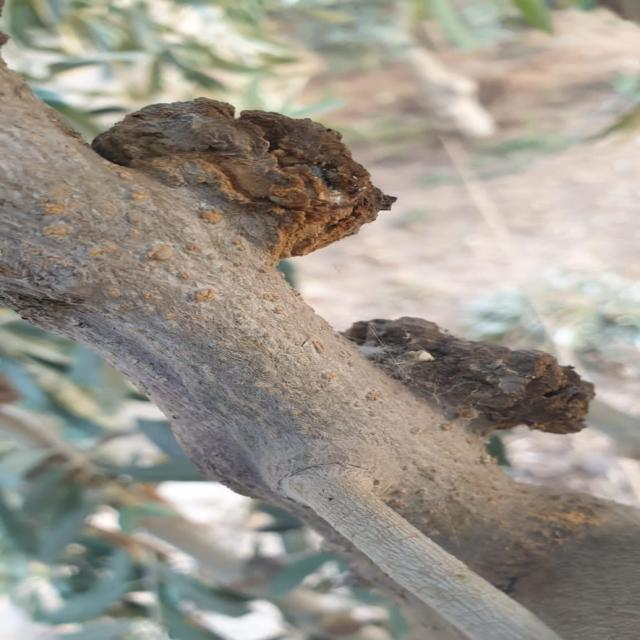Tuberculosis: (92, 98, 396, 262), (346, 317, 594, 464)
